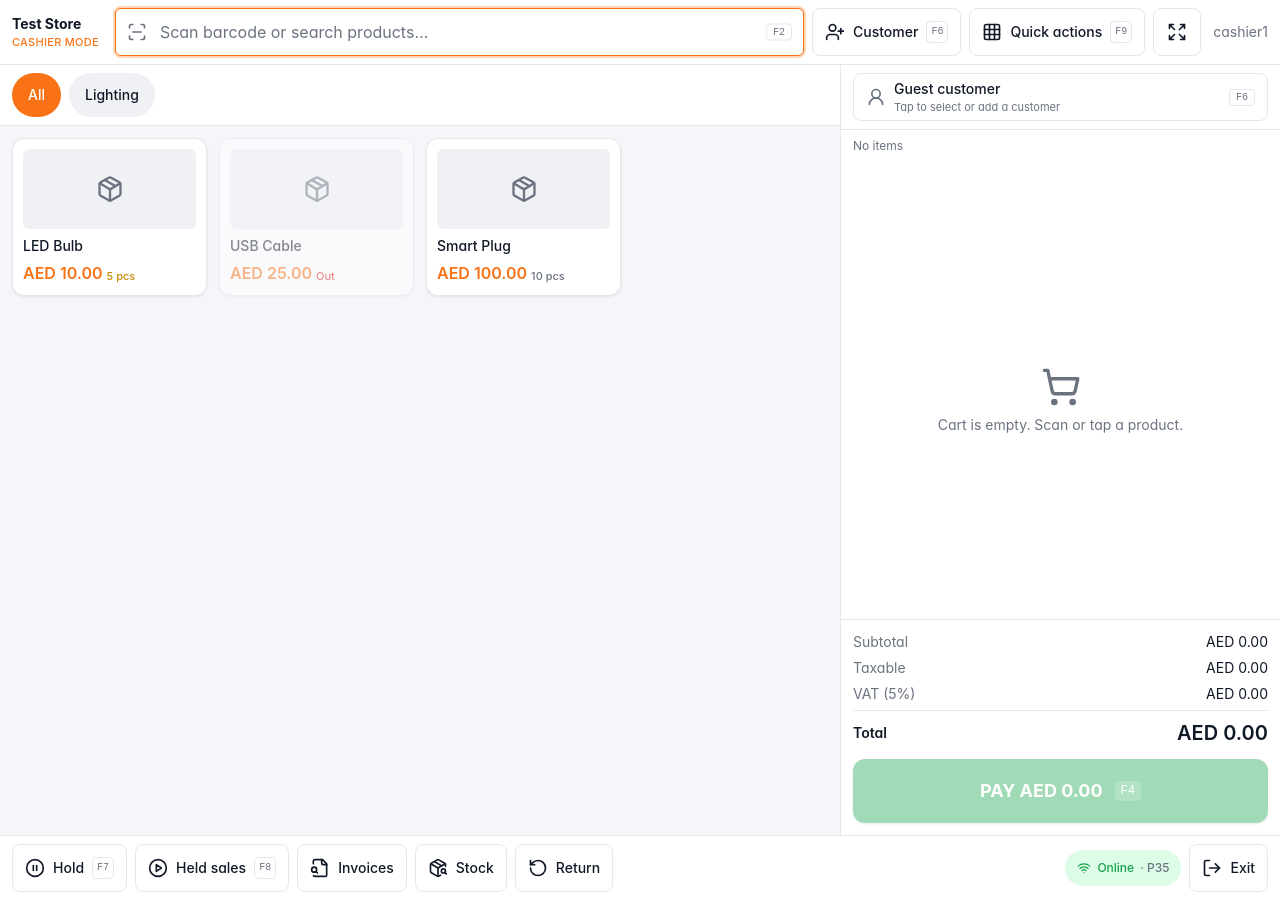
Test: Cashier Mode — payment, hold and exit › a lost connection is checked with the server: no sale yet keeps the cart for a retry
Click the button with aria-label "Add LED Bulb".
click(110, 217)  # box [12, 138, 207, 296]
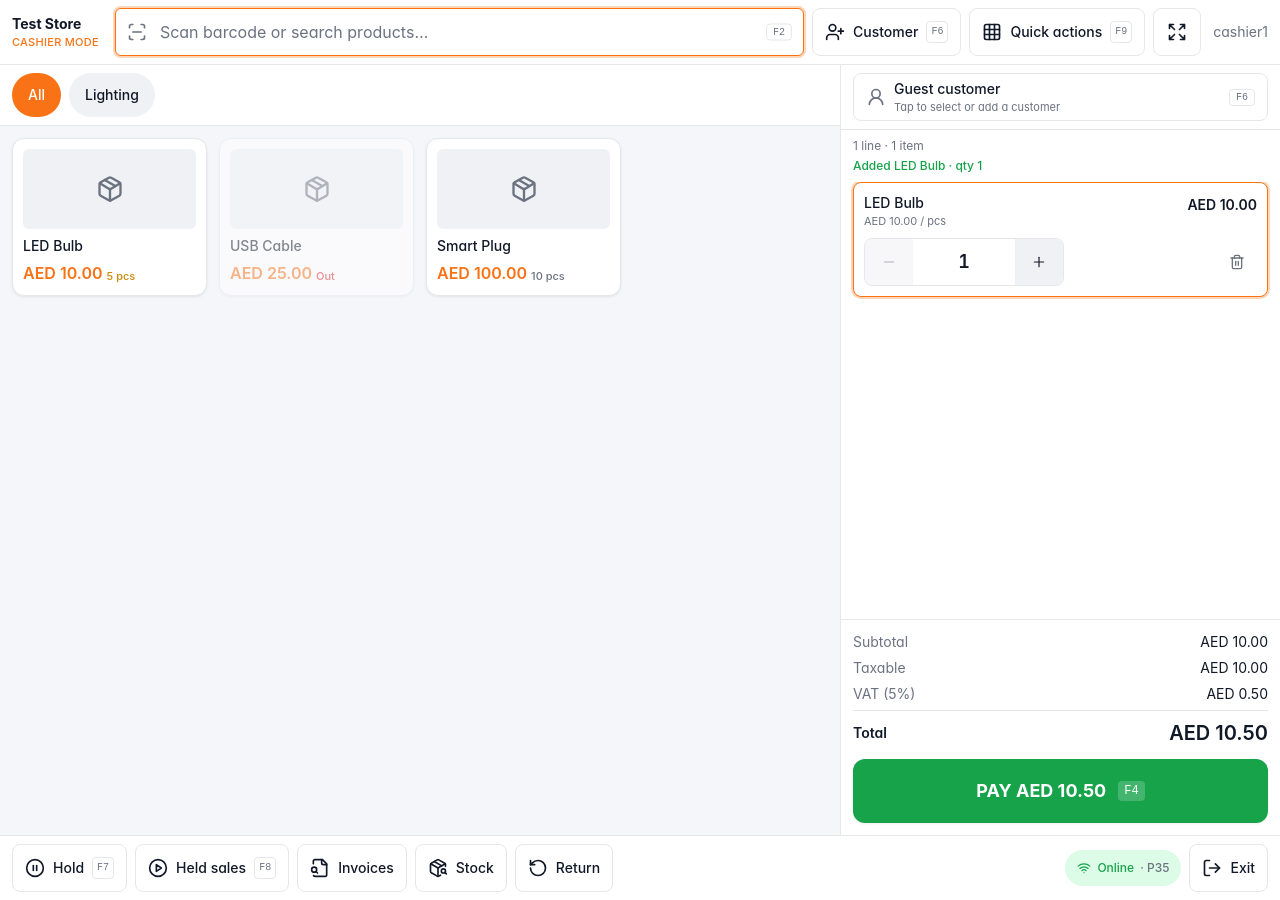
Press F4
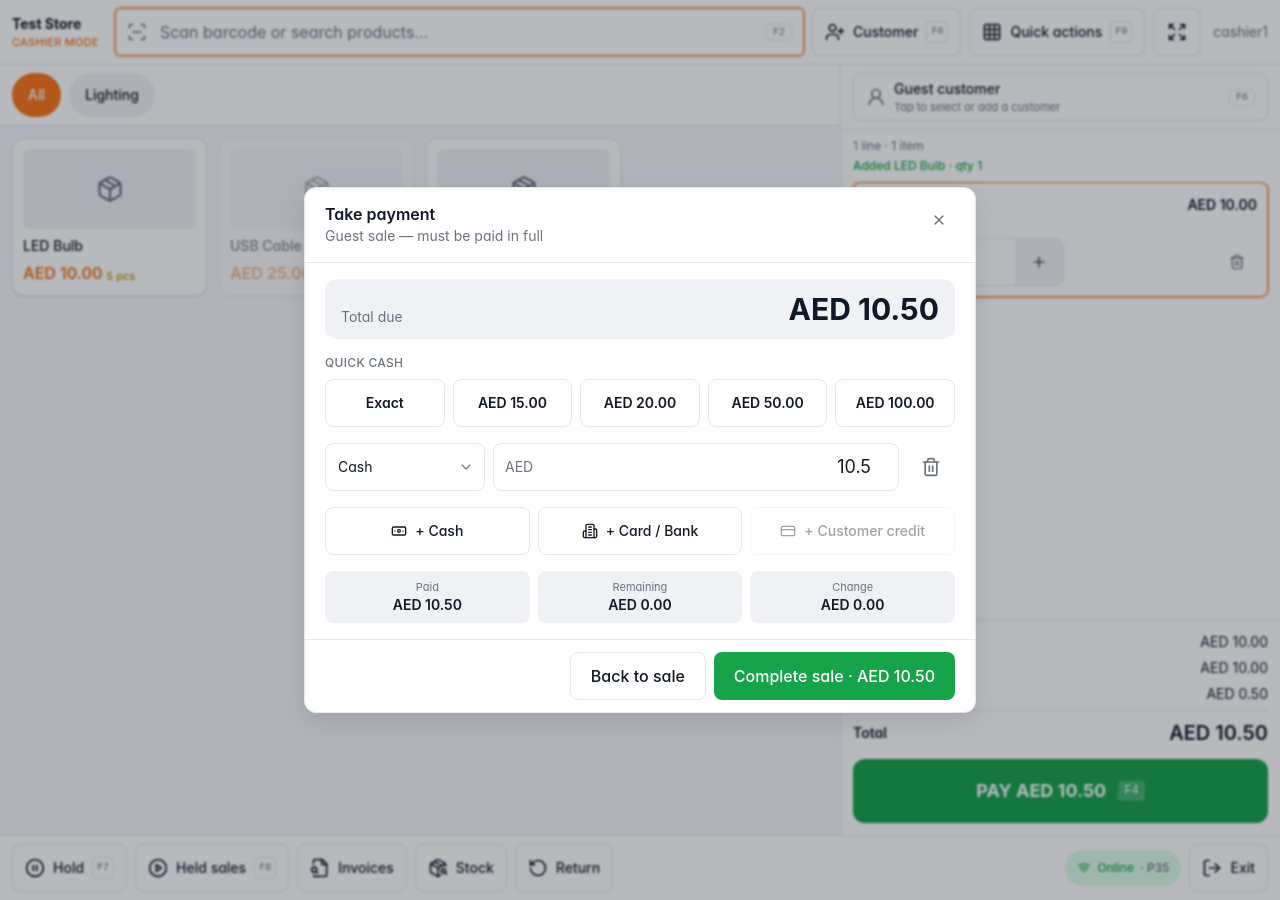
Click the button "Complete sale · AED 10.50".
click(834, 676)  # box [714, 652, 955, 700]
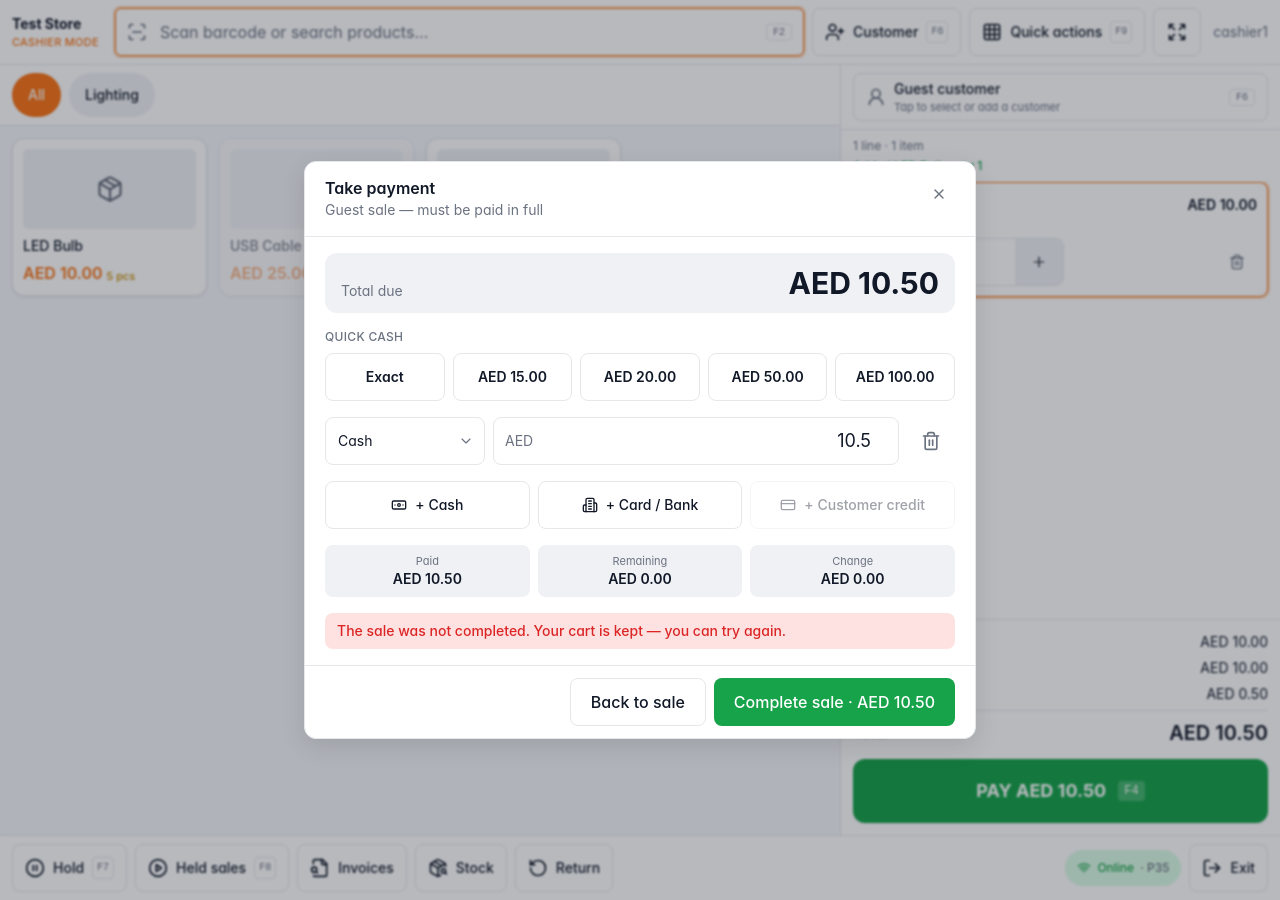
Now the text "The sale was not completed. Your cart is kept — you can try again." is shown, box [325, 613, 955, 649]
